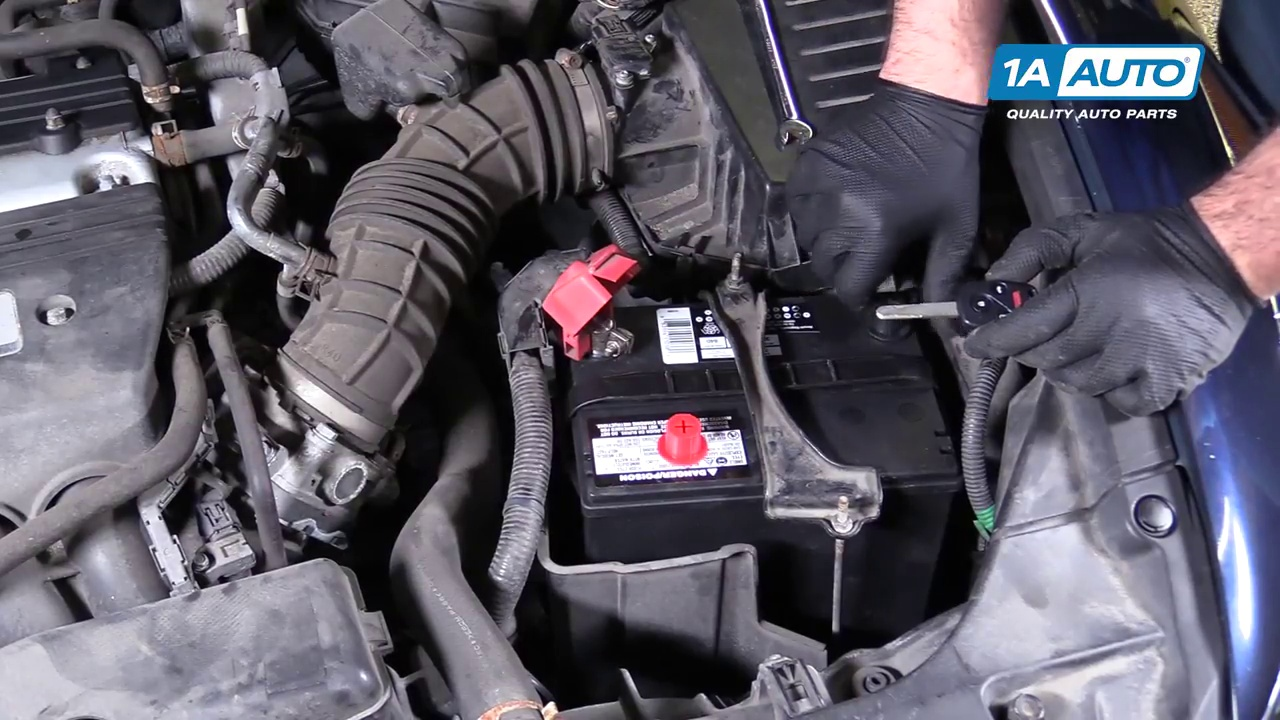battery: (558, 270, 966, 501)
pos_connected: (536, 257, 647, 375)
